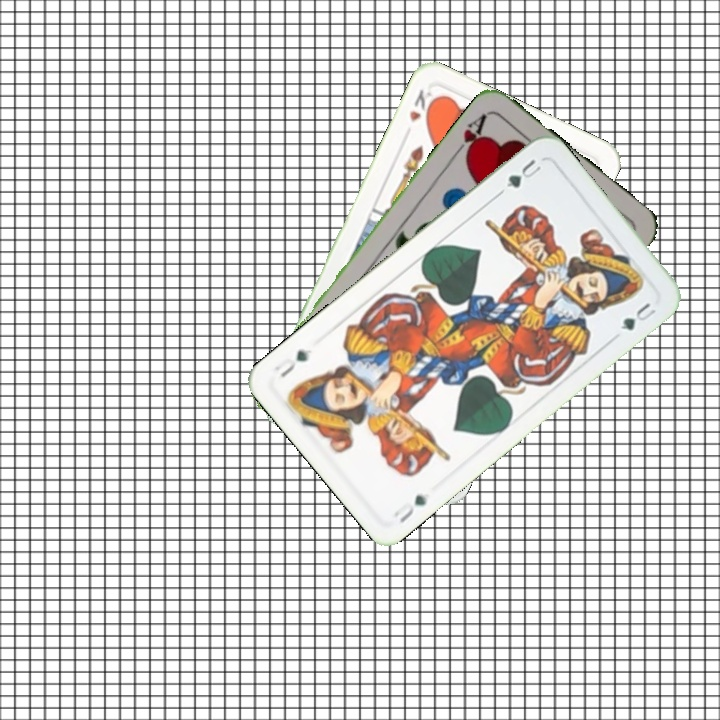GU: (502, 154, 544, 191), (389, 490, 429, 526)
HA: (448, 110, 490, 164)
HK: (405, 85, 440, 125)
